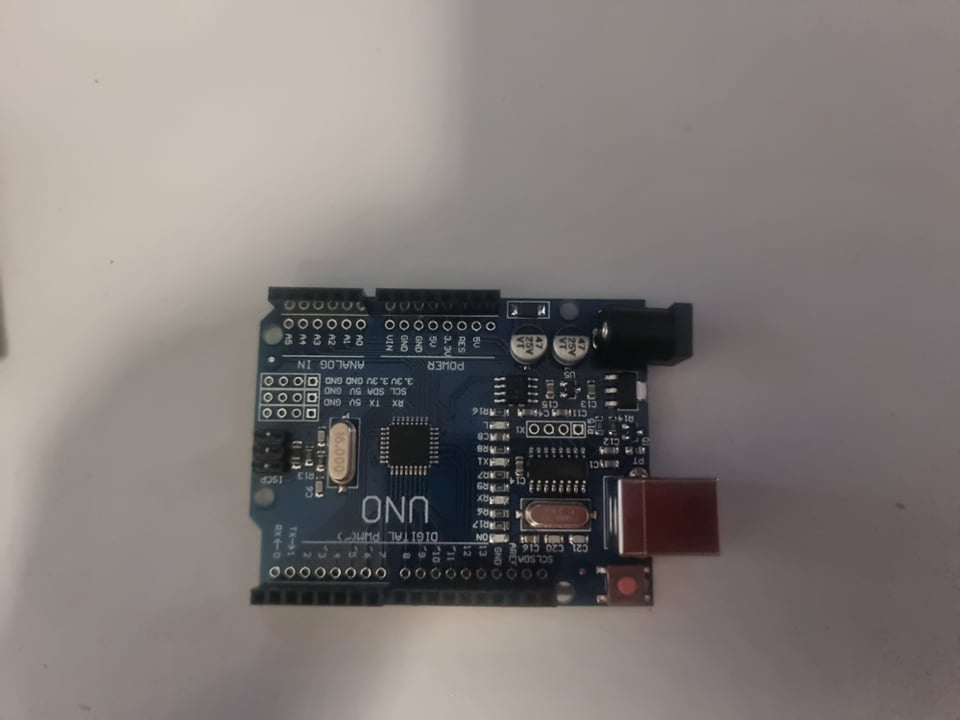UNO R3: (235, 278, 725, 616)
